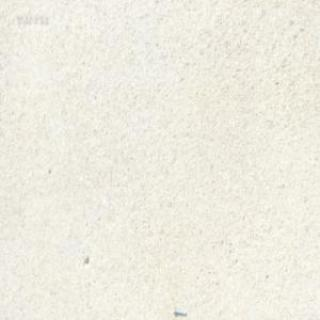Nailtrack_idkeyframe: (172, 305, 186, 314)
